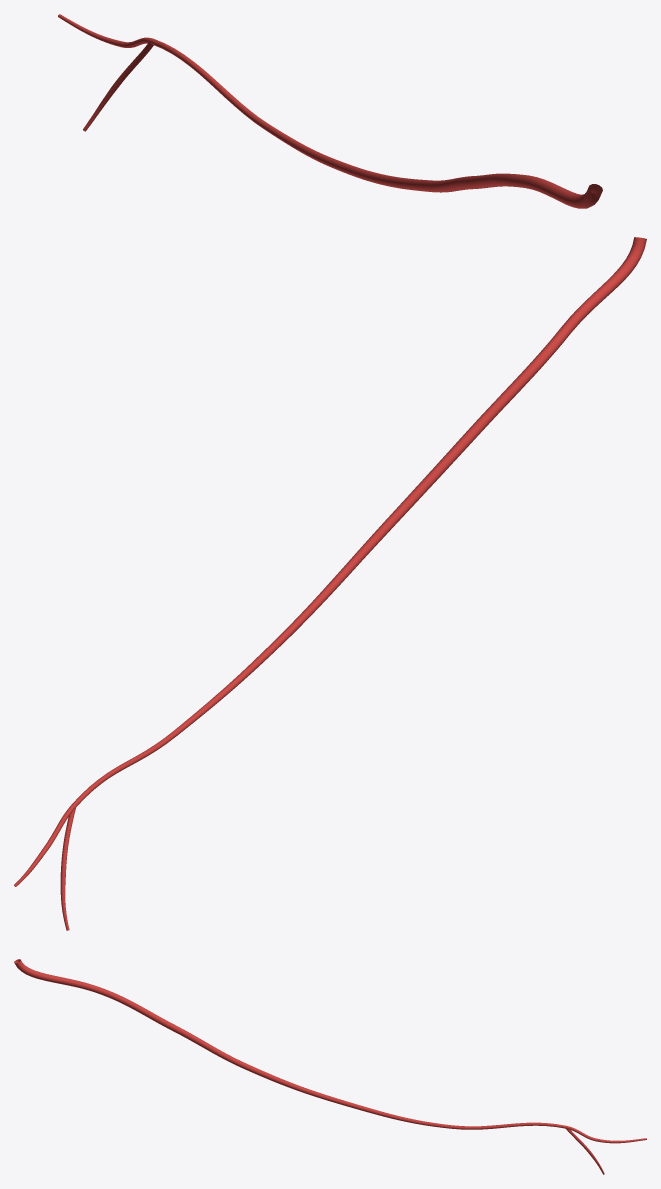
The picture shows the model from 3 angles, top to bottom: view 1: azimuth 30°, elevation 25°; view 2: azimuth 150°, elevation 25°; view 3: azimuth 270°, elevation 25°; orthographic projection. The views are drawn at different scales.
Parts seen in each view (by area): view 1: 左侧胸外侧动脉; view 2: 左侧胸外侧动脉; view 3: 左侧胸外侧动脉.
Part boxes in pixels (x1=…): 左侧胸外侧动脉: x1=58, y1=14, x2=602, y2=208; 左侧胸外侧动脉: x1=14, y1=237, x2=646, y2=930; 左侧胸外侧动脉: x1=14, y1=959, x2=646, y2=1174.
Bounding box in the file's own units: 0.033 × 0.1064 × 0.3112.
